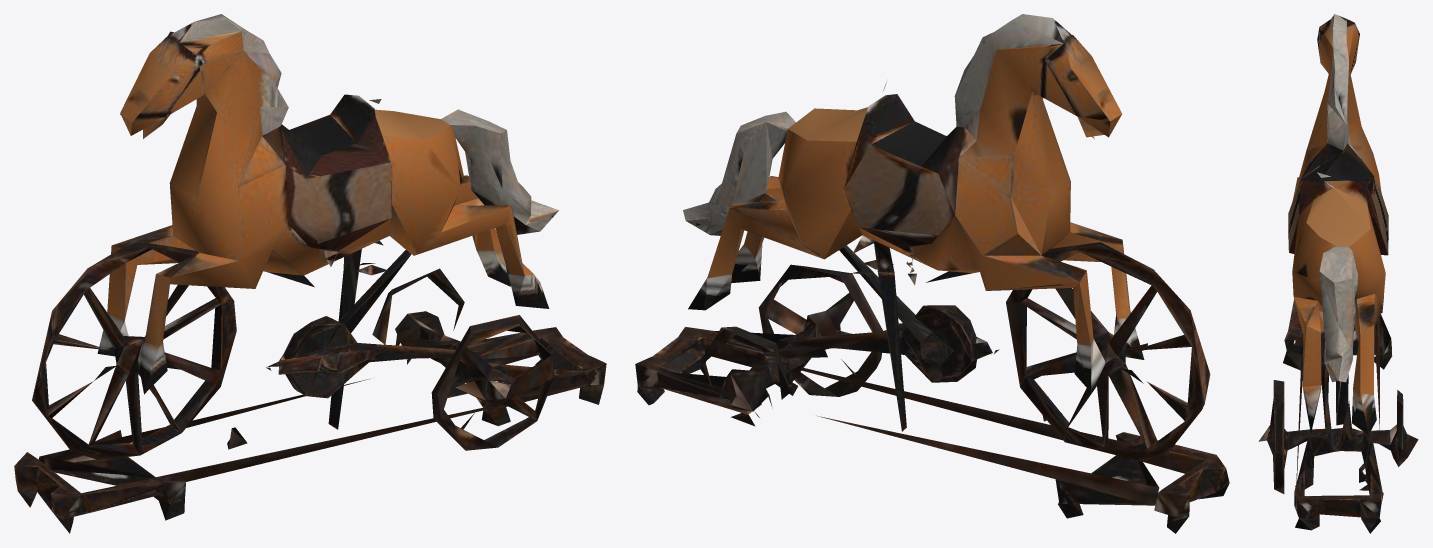
File: mj-gym-electric-horse.lod1.glb
3 views of the same model, side by side, from view 1: azimuth 30°, elevation 25°; view 2: azimuth 150°, elevation 25°; view 3: azimuth 270°, elevation 25° (orthographic). The views are drawn at different scales.
Parts seen in each view (by area): view 1: mj-gym-electric-horse; view 2: mj-gym-electric-horse; view 3: mj-gym-electric-horse.
Part boxes in pixels (bbox=[...]): mj-gym-electric-horse: bbox=[14, 14, 606, 533]; mj-gym-electric-horse: bbox=[635, 14, 1229, 533]; mj-gym-electric-horse: bbox=[1258, 14, 1418, 533].
Bounding box in the file's own units: 1.84 × 1.49 × 0.5803.
1 material, 1 textured.
